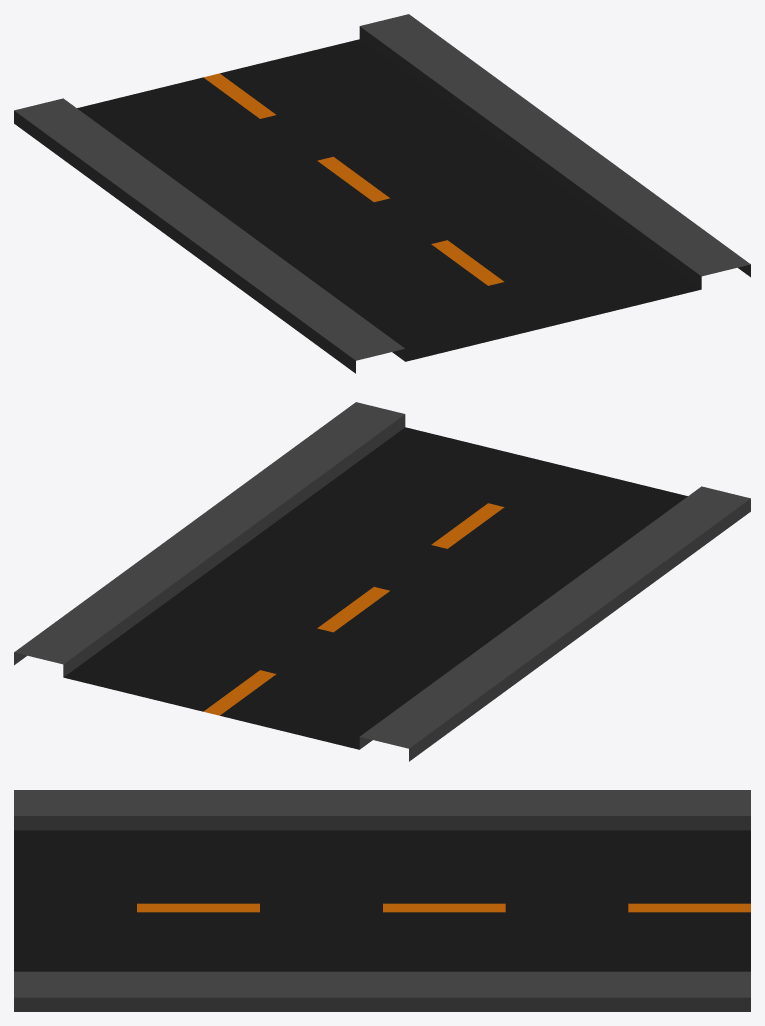
Rendered from straightRoad.obj.
3 renders of one model, top to bottom at view 1: azimuth 30°, elevation 25°; view 2: azimuth 150°, elevation 25°; view 3: azimuth 270°, elevation 25°, orthographic. The views are drawn at different scales.
Visible parts, largest first — view 1: straight_road; view 2: straight_road; view 3: straight_road.
Part boxes in pixels (x1,y1,x2,y2): straight_road: (14, 14, 750, 373); straight_road: (14, 402, 750, 761); straight_road: (14, 790, 750, 1011).
Size of the model in its own units: 18.79 by 0.5971 by 28.18.
